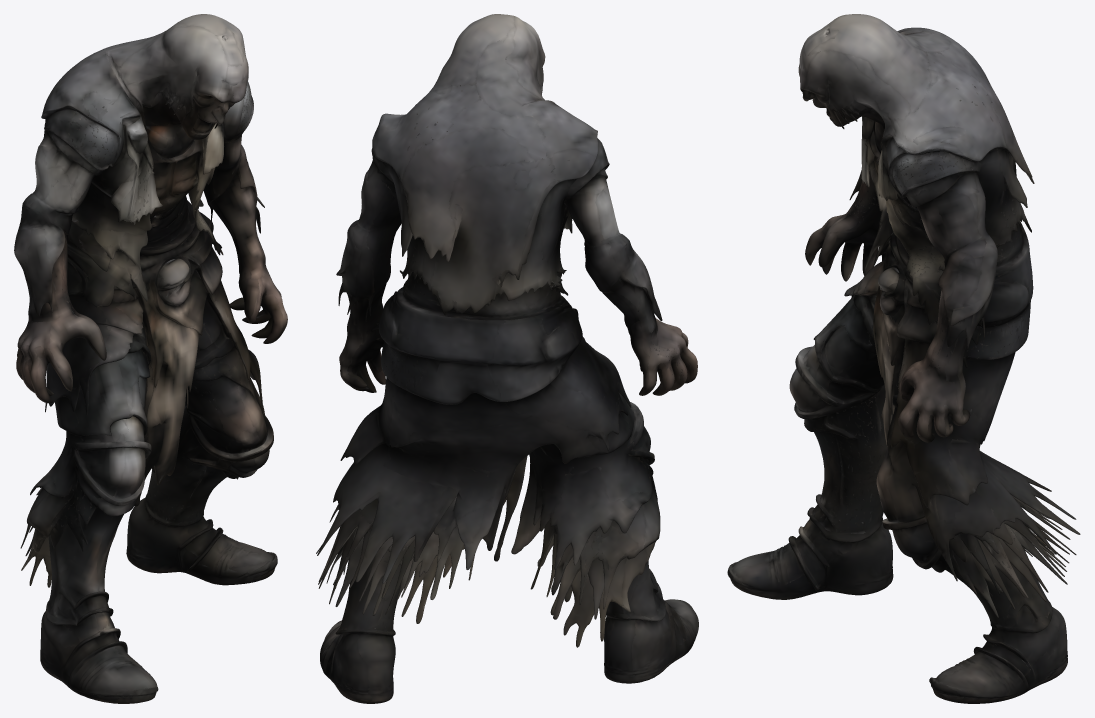
Rendered from wight.glb.
3 renders of one model, left to right at view 1: azimuth 30°, elevation 25°; view 2: azimuth 150°, elevation 25°; view 3: azimuth 270°, elevation 25°, orthographic. The views are drawn at different scales.
Visible parts, largest first — view 1: material; view 2: material; view 3: material.
Boxes of the visible parts, bbox=[...] form: material: bbox=[14, 14, 287, 703]; material: bbox=[316, 14, 698, 703]; material: bbox=[727, 14, 1080, 703].
Size of the model in its own units: 0.5417 by 1.06 by 0.5349.
Materials: 1 (1 with a texture image).
